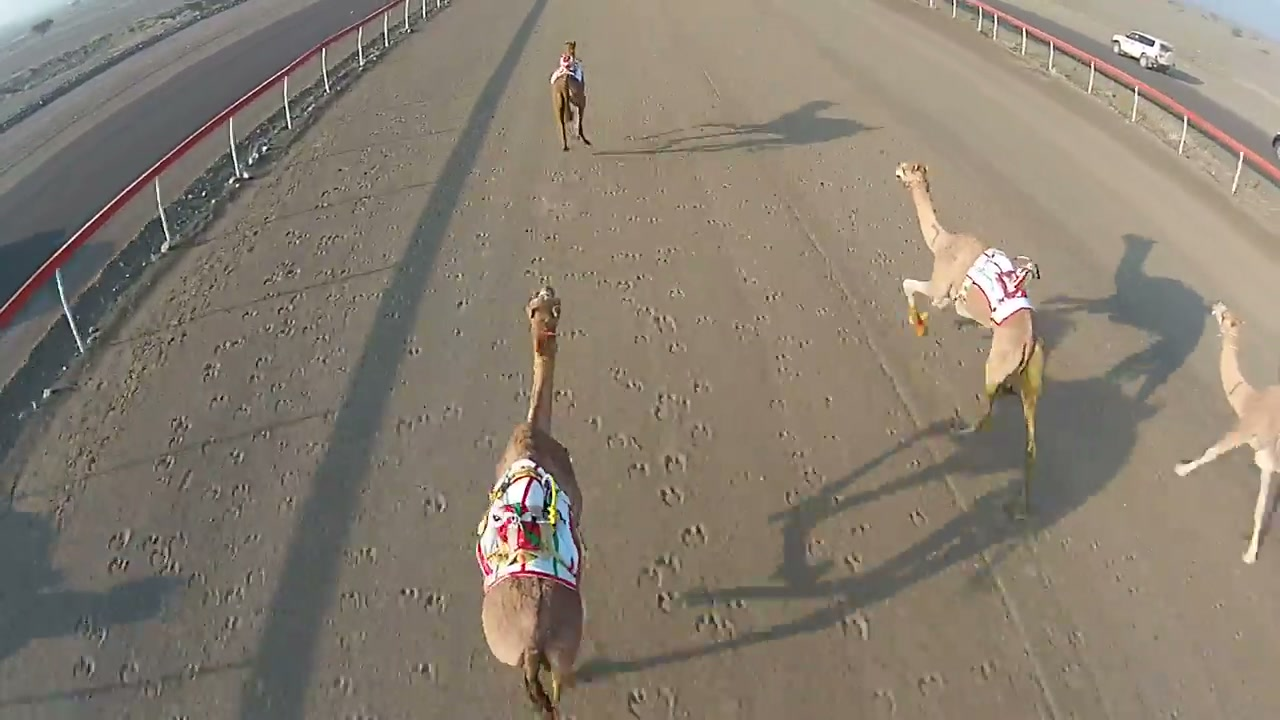animal_footprint: (49, 191, 488, 698), (528, 175, 746, 660)
